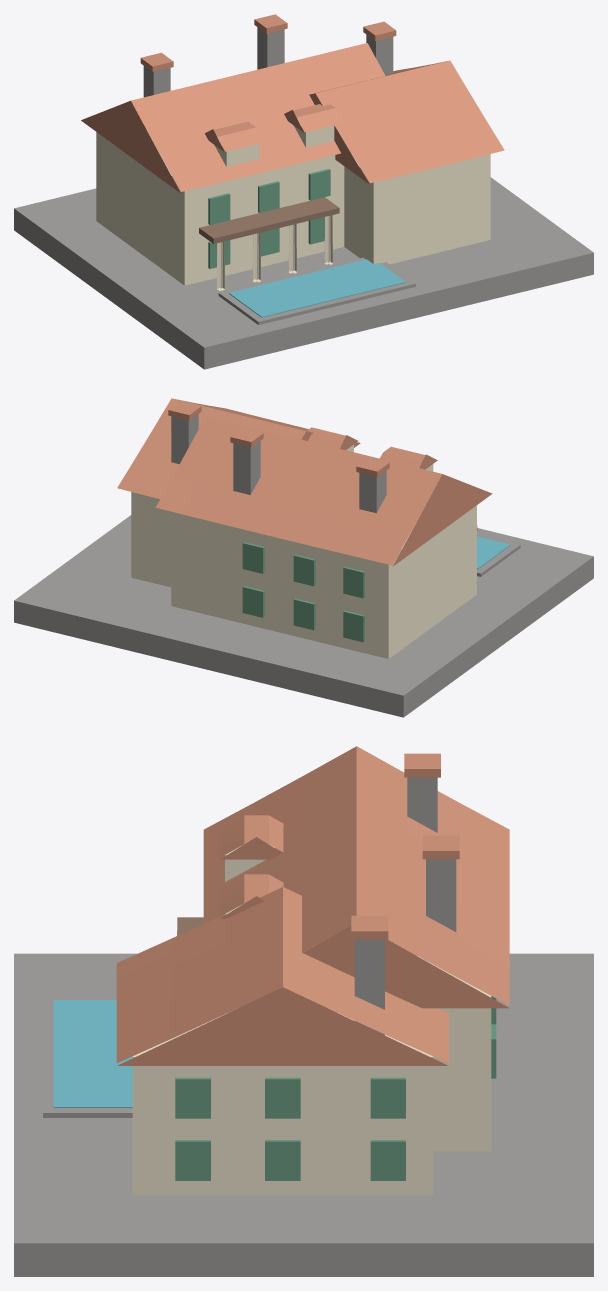
File: lm_73_ana_mandara_le_lai_french_villa_resort.glb
3 renders of one model, top to bottom at view 1: azimuth 30°, elevation 25°; view 2: azimuth 150°, elevation 25°; view 3: azimuth 270°, elevation 25°, orthographic. The views are drawn at different scales.
Parts seen in each view (by area): view 1: lm_73_ana_mandara_le_lai_french_villa_resort; view 2: lm_73_ana_mandara_le_lai_french_villa_resort; view 3: lm_73_ana_mandara_le_lai_french_villa_resort.
Part boxes in pixels (<box>): lm_73_ana_mandara_le_lai_french_villa_resort: <box>14,14,593,369</box>; lm_73_ana_mandara_le_lai_french_villa_resort: <box>14,398,593,717</box>; lm_73_ana_mandara_le_lai_french_villa_resort: <box>14,746,593,1276</box>.
Bounding box in the file's own units: 26 × 12.45 × 22.
